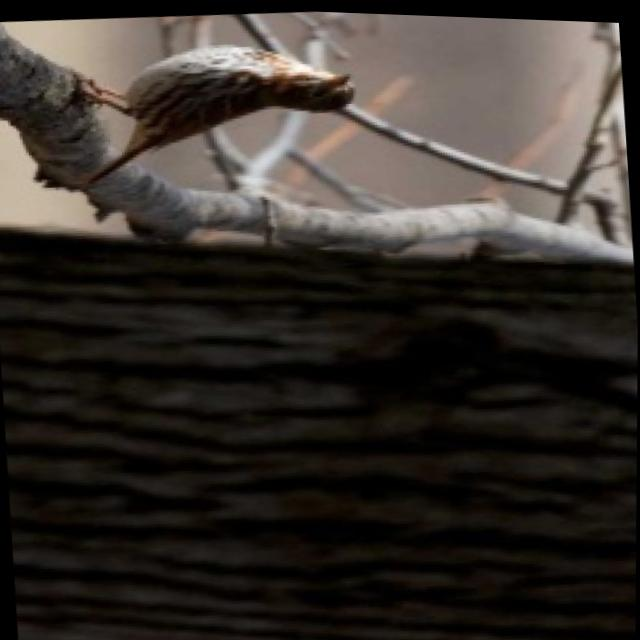sparrow: (66, 24, 363, 200)
